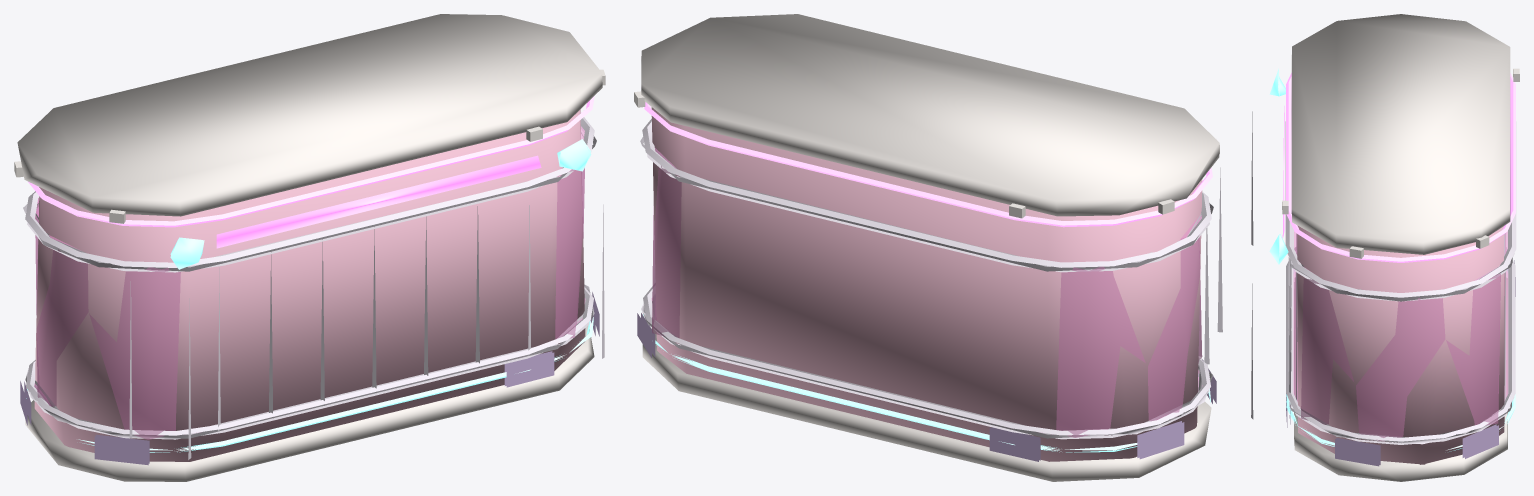
File: lod_building_capsule_row.glb
3 renders of one model, left to right at view 1: azimuth 30°, elevation 25°; view 2: azimuth 150°, elevation 25°; view 3: azimuth 270°, elevation 25°, orthographic. The views are drawn at different scales.
Visible parts, largest first — view 1: building_capsule_row; view 2: building_capsule_row; view 3: building_capsule_row.
Boxes of the visible parts, x1=… form: building_capsule_row: x1=14, y1=14, x2=605, y2=481; building_capsule_row: x1=634, y1=14, x2=1222, y2=481; building_capsule_row: x1=1251, y1=14, x2=1519, y2=481.
Bounding box in the file's own units: 8.44 × 4.2 × 4.19.
